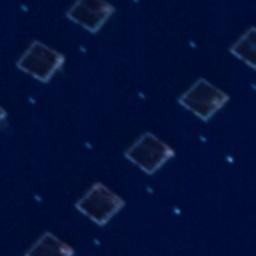square_cover: (120, 127, 177, 177), (176, 74, 230, 125), (14, 39, 68, 86), (74, 180, 125, 226), (63, 1, 119, 36), (22, 228, 79, 256), (229, 22, 256, 72)
